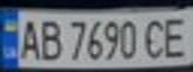0: (118, 17, 142, 61)
6: (84, 17, 106, 62)
7: (63, 17, 87, 61)
9: (103, 17, 124, 61)
A: (15, 16, 42, 61)
B: (36, 16, 63, 62)
C: (139, 16, 172, 61)
E: (160, 13, 193, 60)
